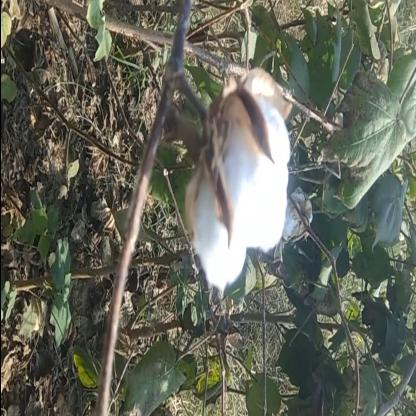cotton_ready: (156, 72, 300, 310)
